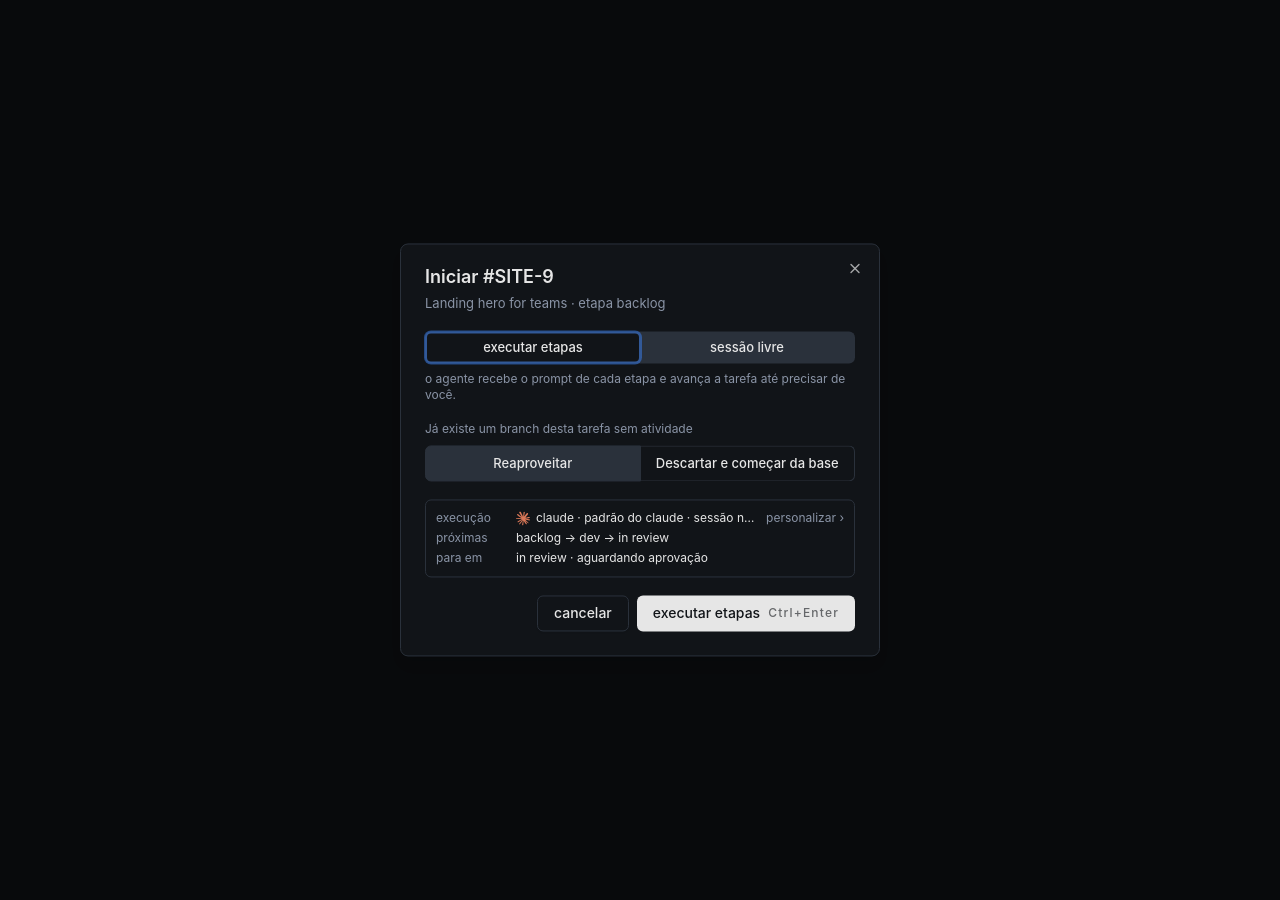
a discard git refuses shows its words under the dialog's own heading, and the dialog stays (#861)
The width and height of the screenshot is (1280, 900).
Expected: the text "Já existe um branch desta tarefa sem atividade" is shown, top-left (425, 422), bottom-right (693, 437)
Click the radio button labelled "Descartar e começar da base" at (748, 464), box top-left (640, 446), bottom-right (855, 482)
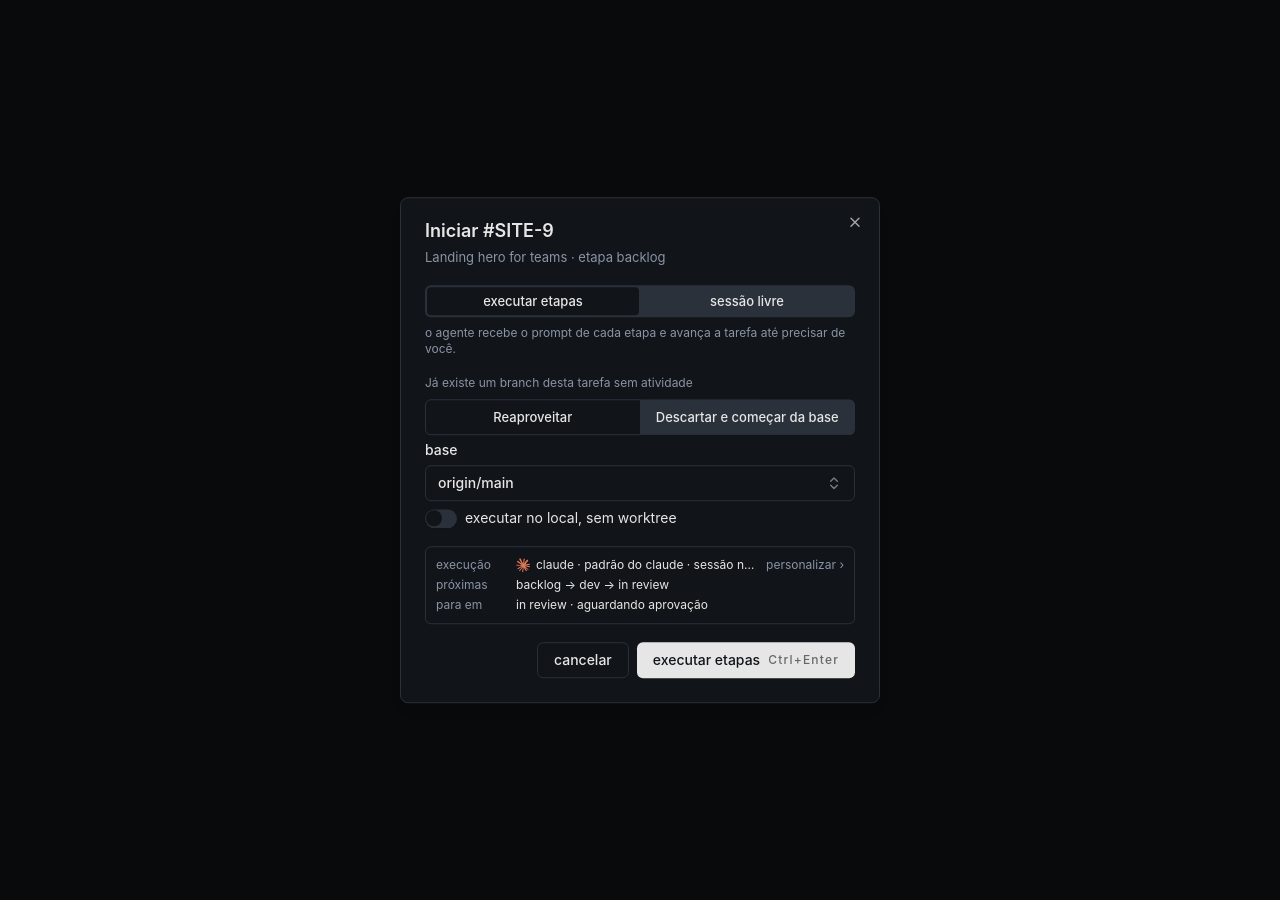
Click the button "executar etapas Ctrl+Enter" at (746, 660), box top-left (637, 642), bottom-right (855, 678)
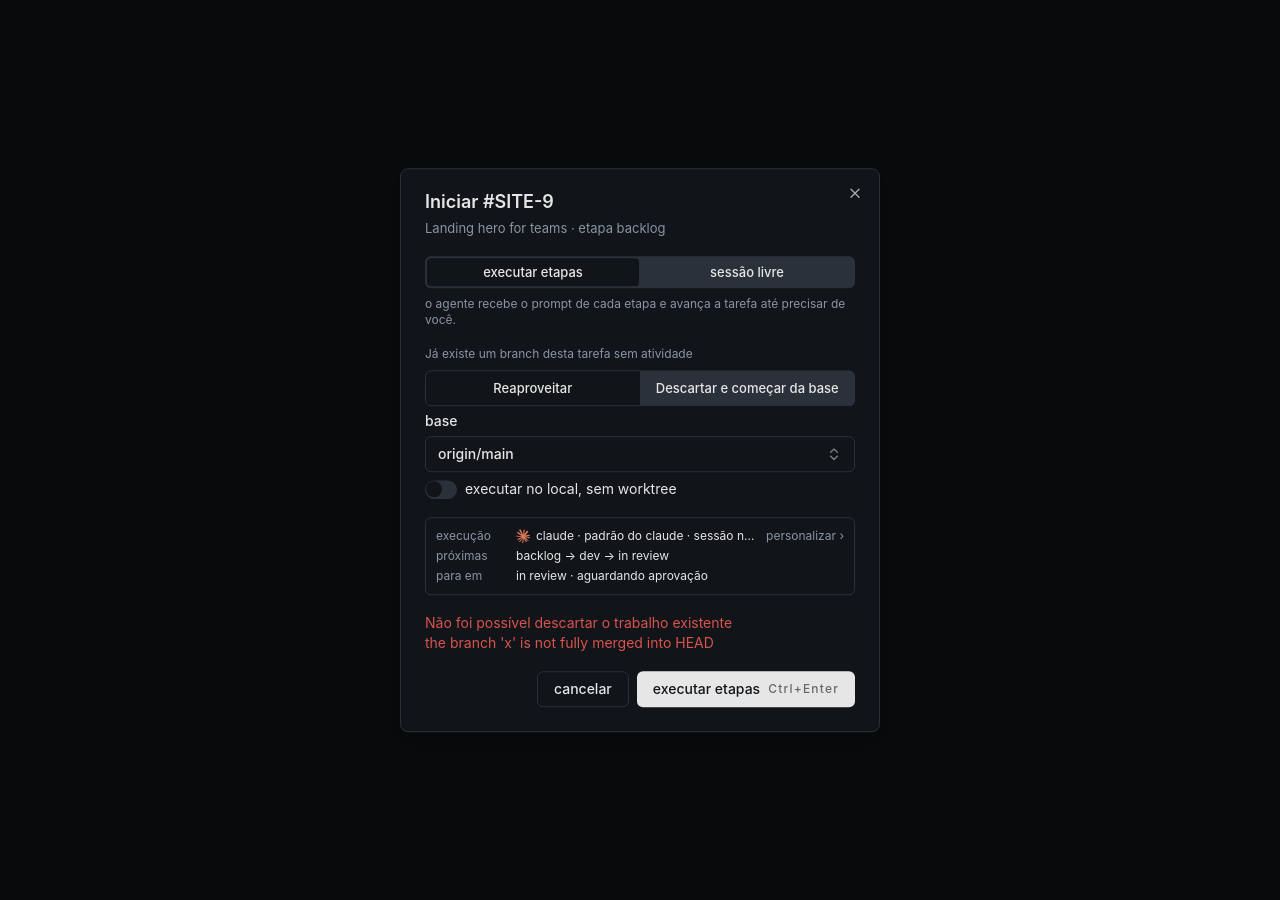
Result: the message shows "Não foi possível descartar o trabalho existente" at top-left (425, 614), bottom-right (732, 651)
Result: the message shows "the branch 'x' is not fully merged into HEAD" at top-left (425, 614), bottom-right (732, 651)
